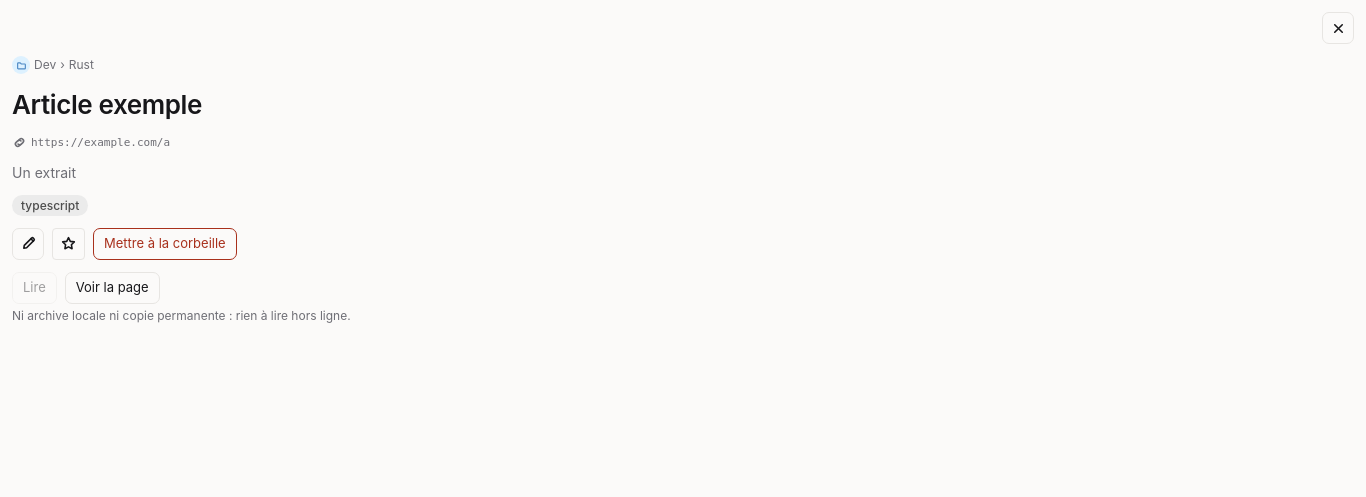
DetailPane — l'édition se quitte sans rien garder › les champs d'édition portent un nom
The image size is (1366, 497).
Click the button named "Modifier": (28, 244) [12, 228, 44, 260]
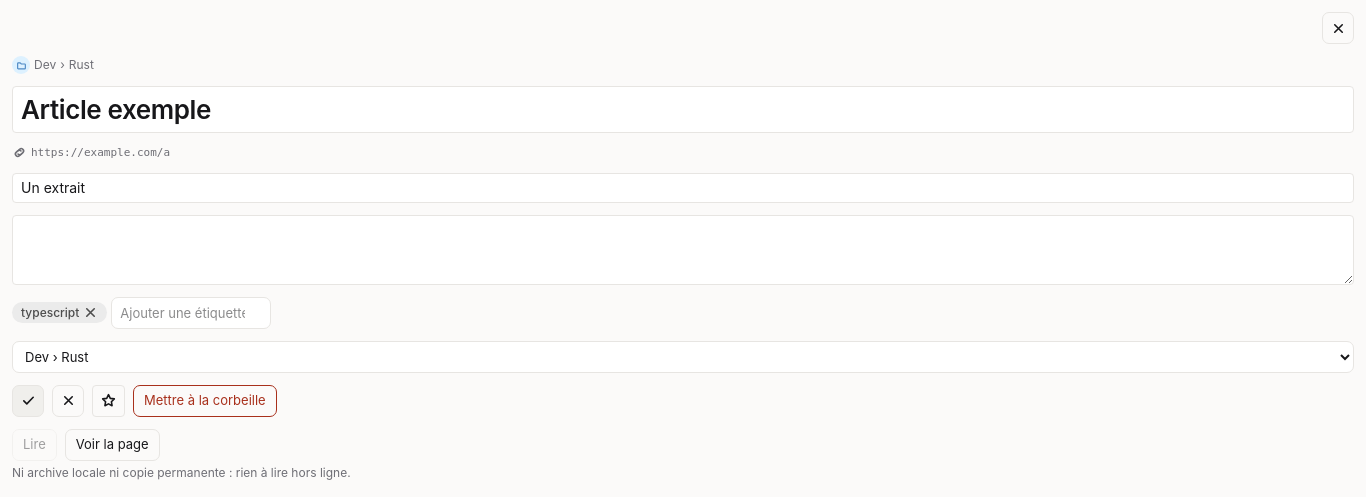
Expected: the field named "Titre" holds "Article exemple", [12, 86, 1354, 133]
Expected: the field named "Extrait" is shown, [12, 173, 1354, 203]
Expected: the text box named "Note" is shown, [12, 215, 1354, 285]
